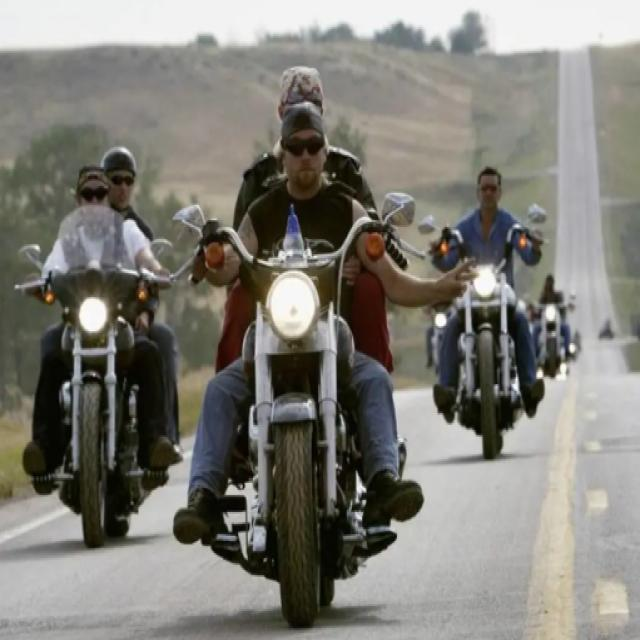WithoutHelmet: (170, 103, 475, 550), (23, 166, 182, 480), (435, 168, 545, 417), (232, 66, 380, 234)
